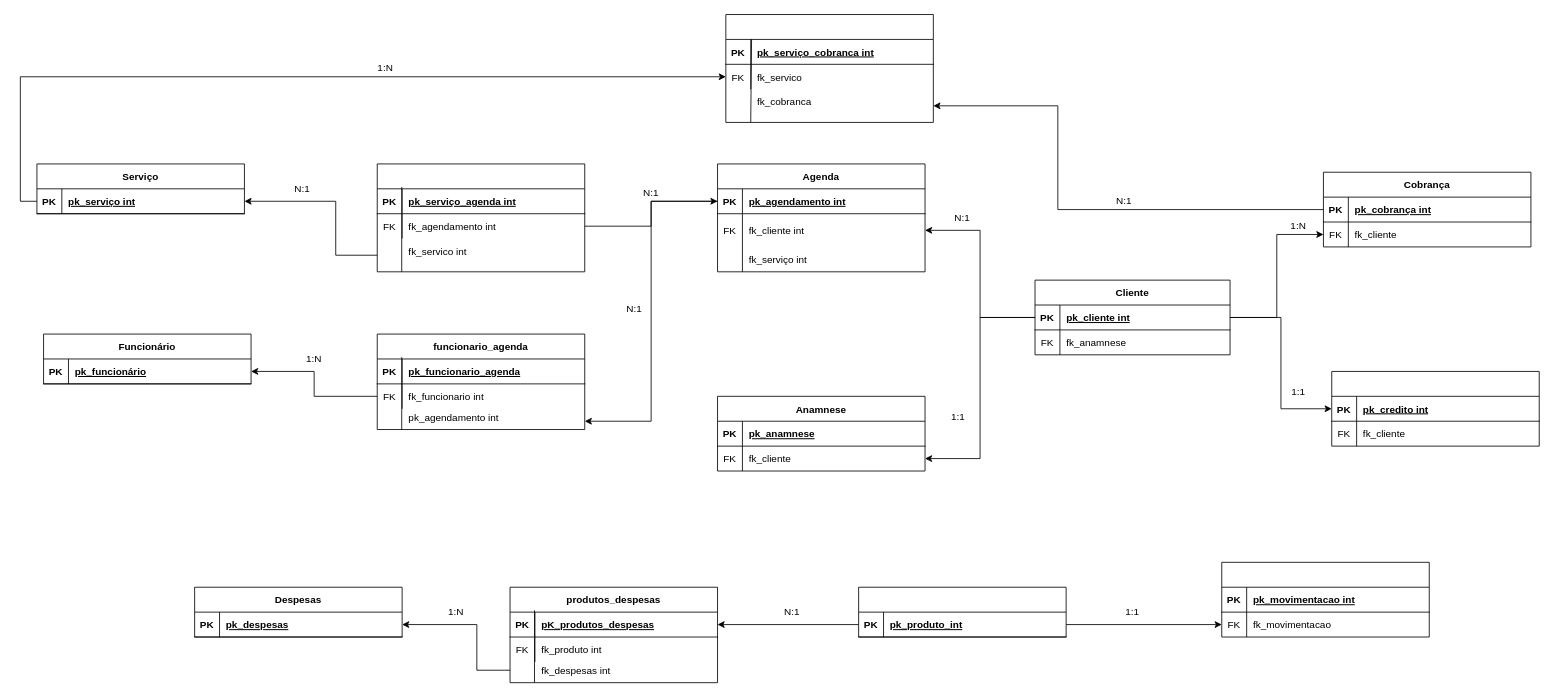
The diagram is 1554 pixels wide and 698 high, and some of its shapes have lost their labels. The box of each missing label's shape, as (x1, y1, x2, y2) in pixels:
Cobranca_servico: (725, 14, 933, 122)
Crédito: (1331, 371, 1539, 446)
Movimentação de Produtos: (1221, 561, 1429, 637)
Produtos: (858, 586, 1066, 637)
Serivço_Agenda: (376, 163, 585, 272)
